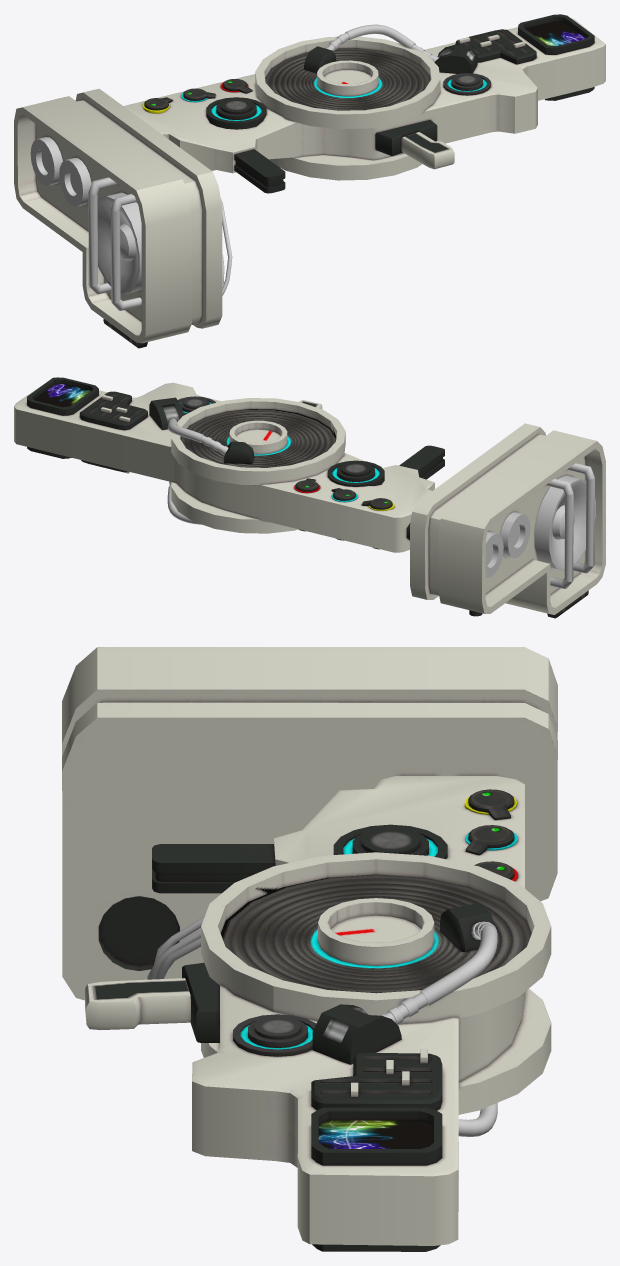
File: [Dubstep]GUN.FBX
The picture shows the model from 3 angles, top to bottom: view 1: azimuth 30°, elevation 25°; view 2: azimuth 150°, elevation 25°; view 3: azimuth 270°, elevation 25°; orthographic projection. The views are drawn at different scales.
Parts seen in each view (by area): view 1: Mesh_0368, Mesh_0369; view 2: Mesh_0368, Mesh_0369; view 3: Mesh_0368, Mesh_0369.
Part boxes in pixels (x1=…): Mesh_0368: x1=14, y1=14, x2=605, y2=348; Mesh_0369: x1=30, y1=24, x2=438, y2=324; Mesh_0368: x1=14, y1=377, x2=605, y2=618; Mesh_0369: x1=167, y1=418, x2=595, y2=588; Mesh_0368: x1=62, y1=647, x2=557, y2=1251; Mesh_0369: x1=147, y1=916, x2=497, y2=1136.
Bounding box in the file's own units: 95.19 × 40.27 × 28.73.
